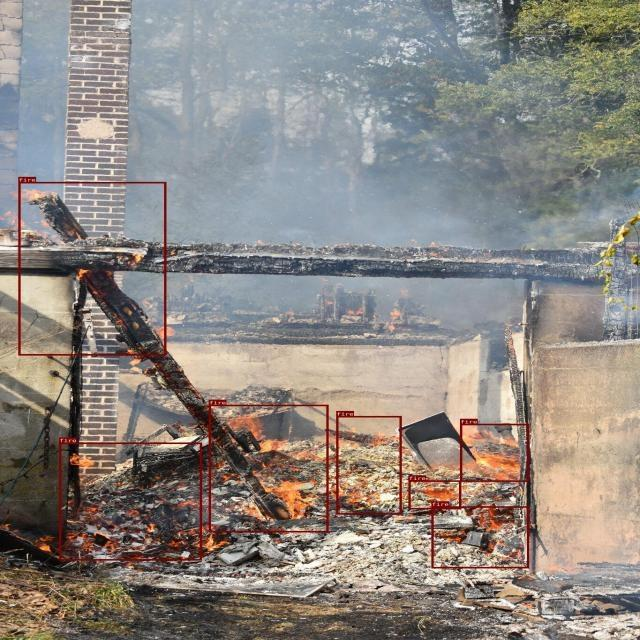fire: (18, 182, 165, 355), (59, 442, 201, 560), (209, 404, 328, 532), (336, 416, 401, 514), (431, 506, 529, 568), (460, 424, 529, 482), (408, 480, 461, 509)
